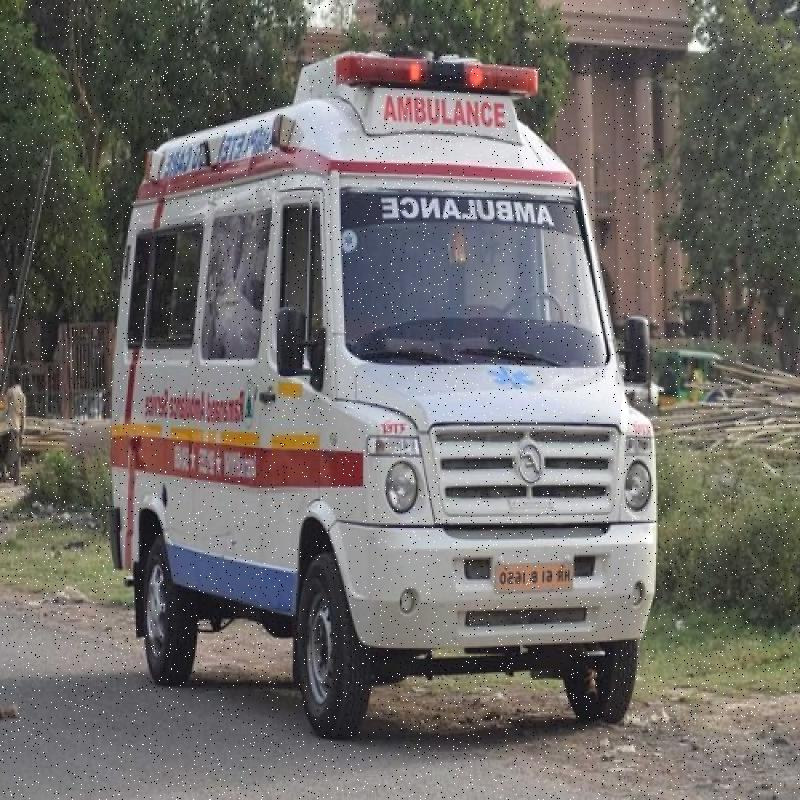ambulance: (106, 79, 668, 710)
